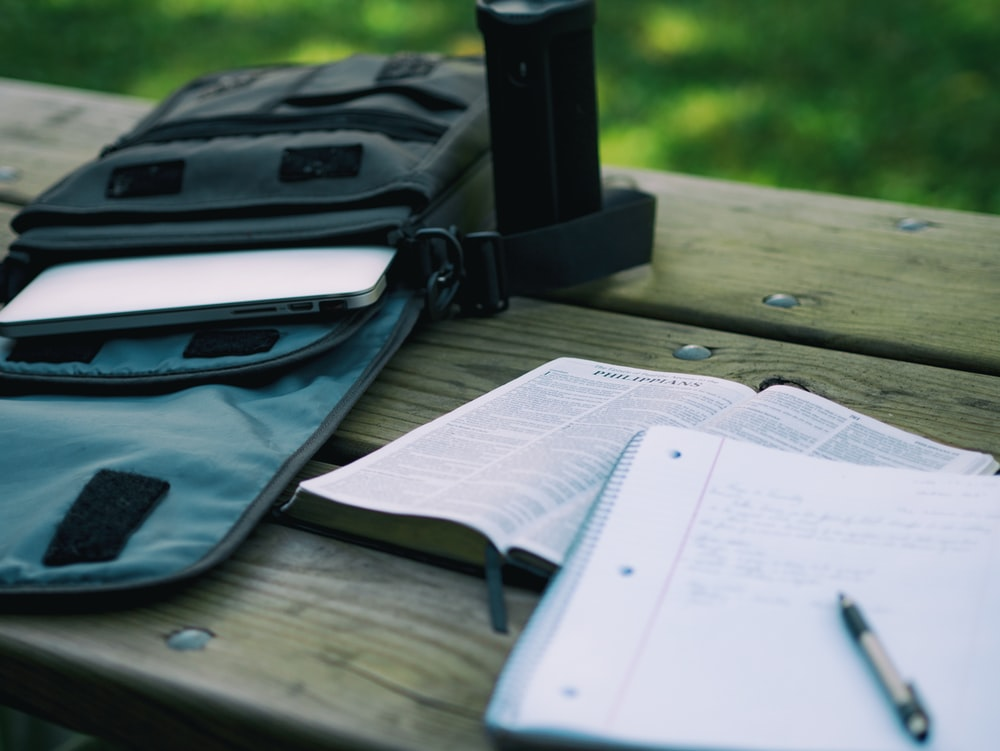Open Book: (279, 349, 1000, 622)
